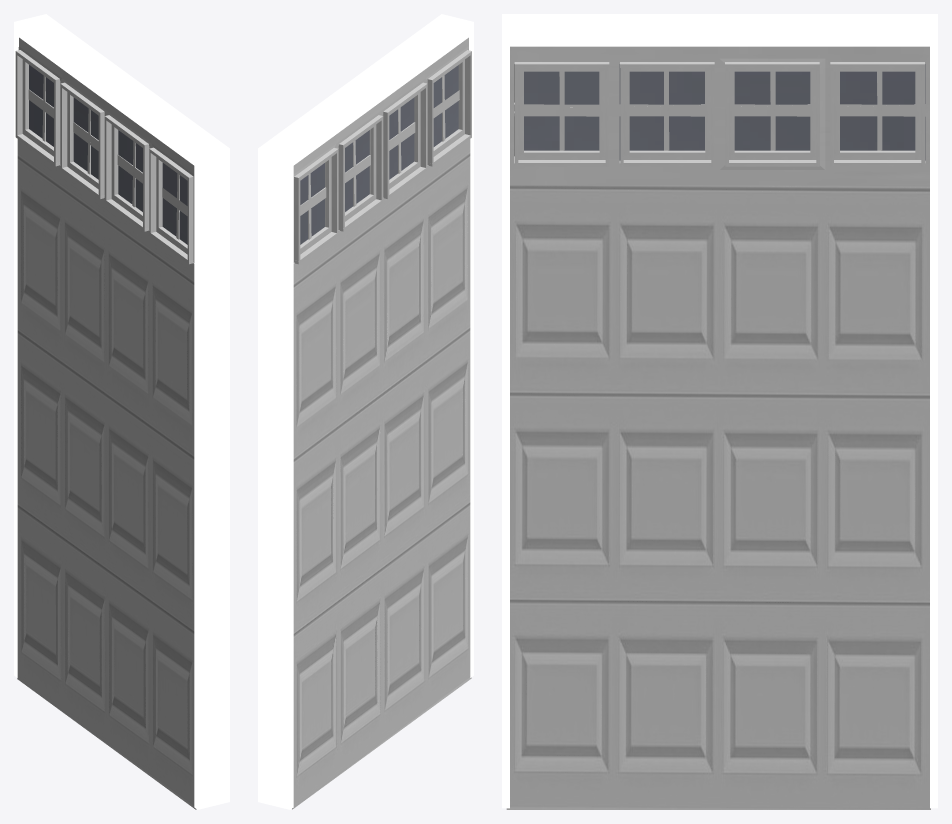
Rendered from overhead_door_door_stockton.e927fd4c.gltf.
The picture shows the model from 3 angles, left to right: view 1: azimuth 30°, elevation 25°; view 2: azimuth 150°, elevation 25°; view 3: azimuth 270°, elevation 25°; orthographic projection. The views are drawn at different scales.
Visible parts, largest first — view 1: door, trim, door_window, Glass; view 2: door, trim, door_window, Glass; view 3: door, door_window, trim, Glass.
Part boxes in pixels (bbox=[...]): door: bbox=[17, 139, 196, 809]; trim: bbox=[14, 14, 229, 809]; door_window: bbox=[15, 37, 194, 264]; Glass: bbox=[29, 65, 187, 244]; door: bbox=[292, 139, 471, 809]; trim: bbox=[258, 14, 473, 809]; door_window: bbox=[293, 37, 471, 264]; Glass: bbox=[300, 65, 458, 244]; door: bbox=[506, 156, 930, 809]; door_window: bbox=[510, 46, 929, 185]; trim: bbox=[502, 14, 937, 808]; Glass: bbox=[524, 64, 925, 160].
Bounding box in the file's own units: 0.3779 × 6.01 × 3.05.
Materials: 4 (3 with a texture image).
